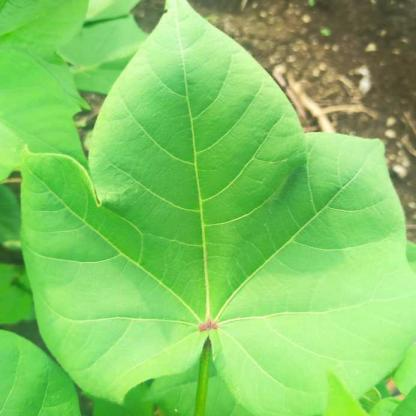cotton: (15, 2, 412, 397)
